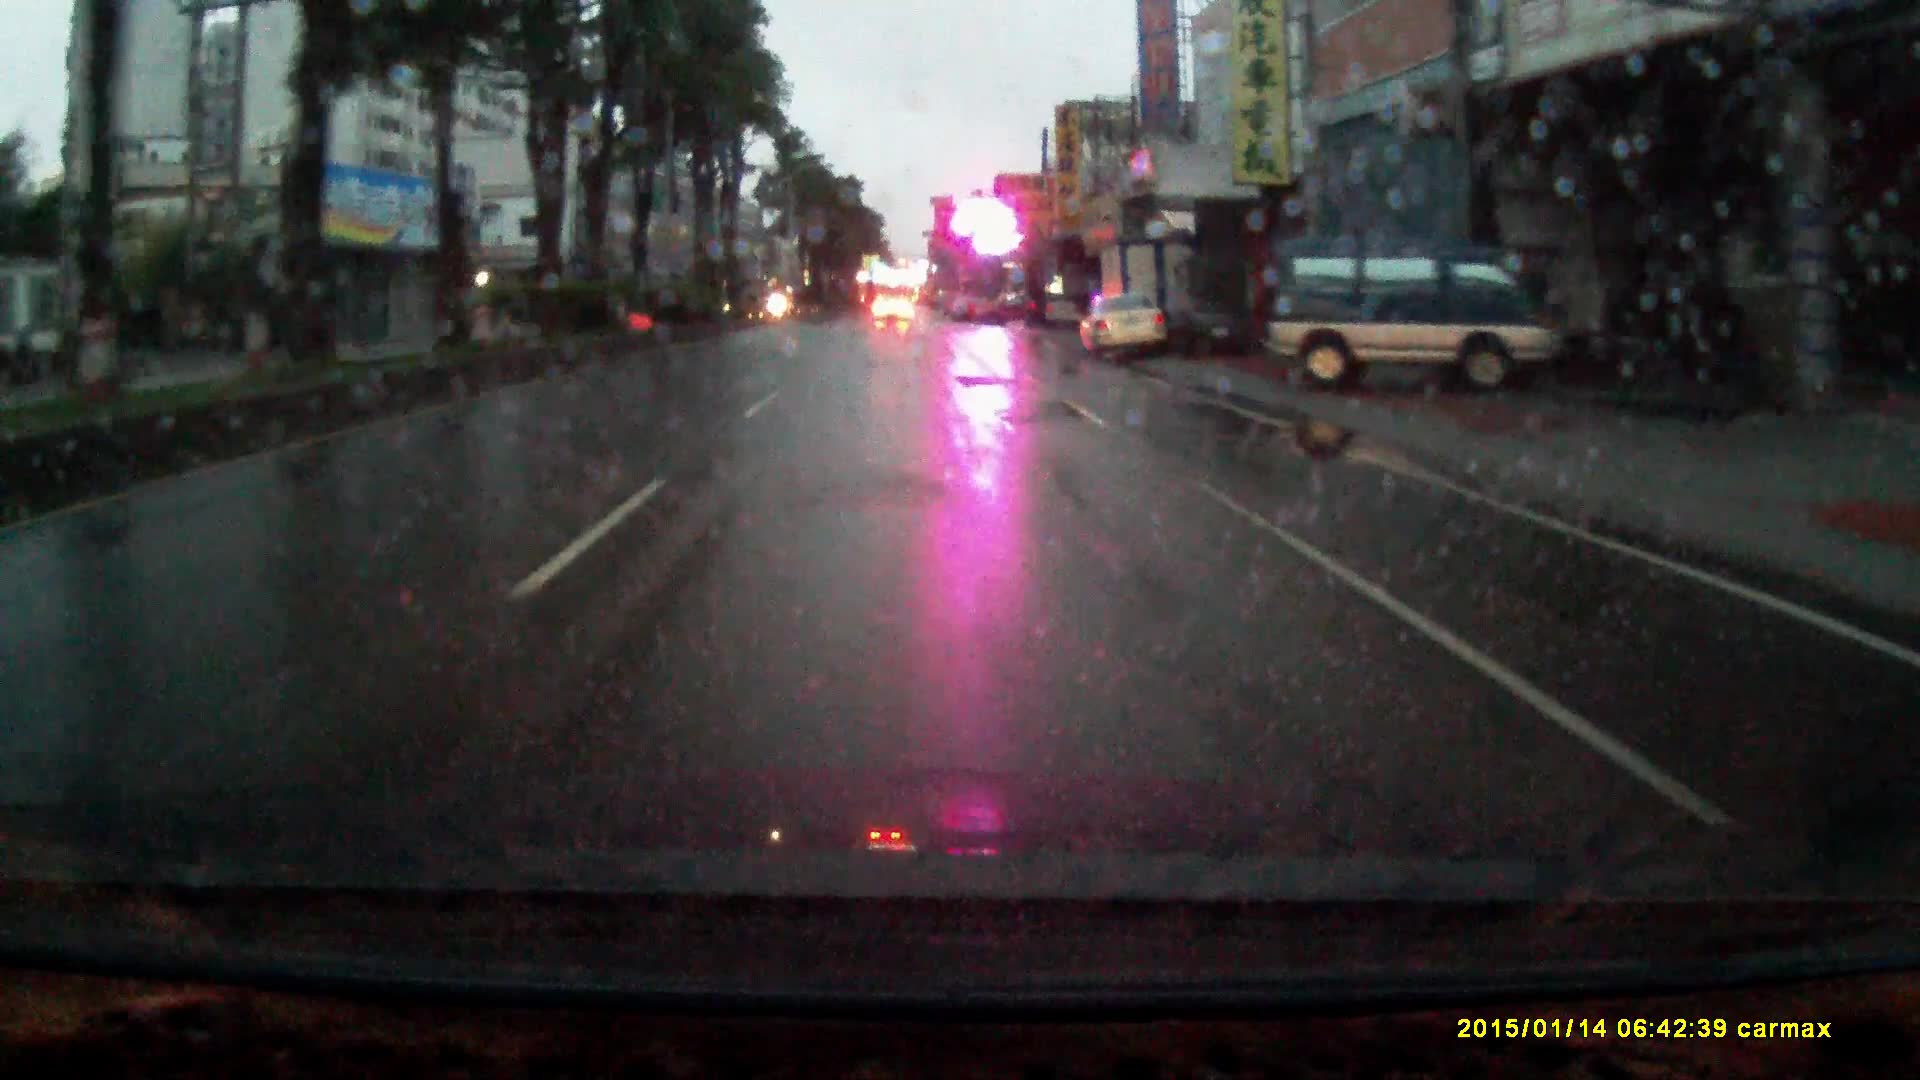vehicle: (1261, 233, 1569, 396), (1095, 237, 1205, 361), (1079, 293, 1172, 365), (876, 291, 911, 326)
